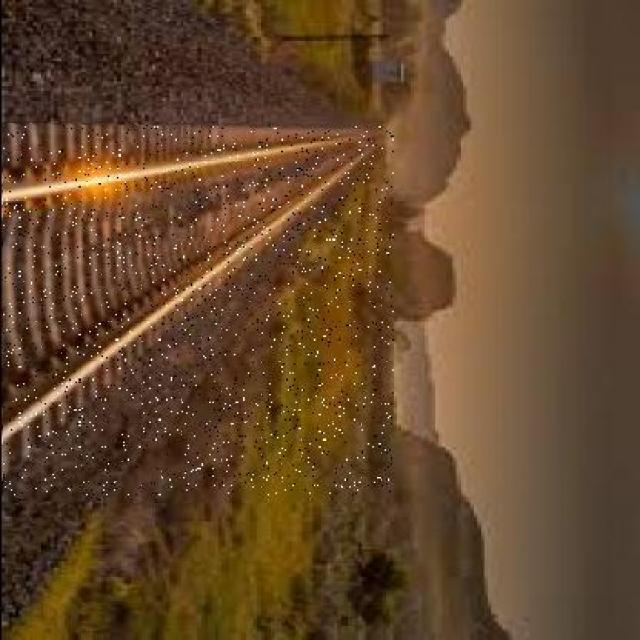rail: (3, 127, 393, 496)
